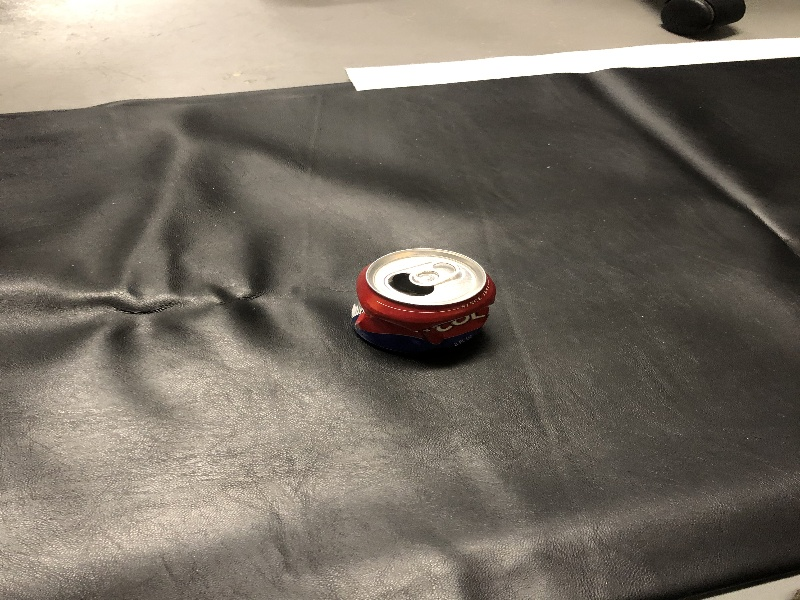metal: (343, 238, 509, 362)
